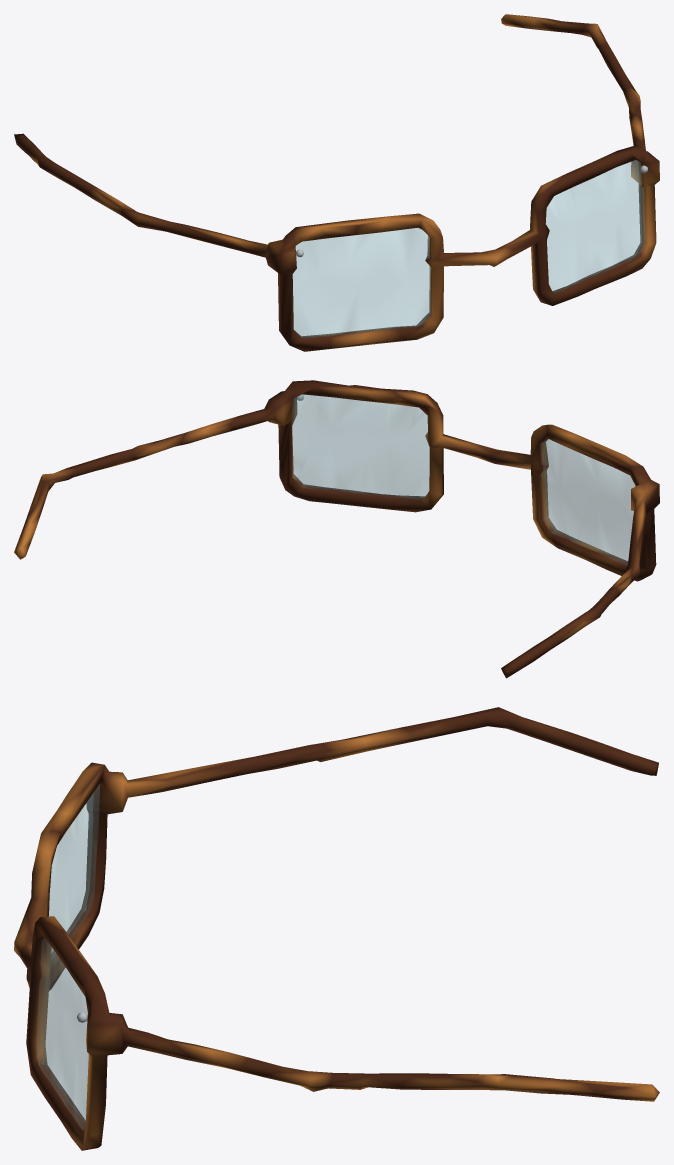
The model's file is kinhcan.glb.
3 renders of one model, top to bottom at view 1: azimuth 30°, elevation 25°; view 2: azimuth 150°, elevation 25°; view 3: azimuth 270°, elevation 25°, orthographic. The views are drawn at different scales.
Visible parts, largest first — view 1: Trong_Can, Gong_Can; view 2: Gong_Can, Trong_Can; view 3: Gong_Can, Trong_Can.
Boxes of the visible parts, left/top/right/bottom form: Trong_Can: left=292, top=160, right=645, bottom=338; Gong_Can: left=14, top=14, right=659, bottom=351; Gong_Can: left=14, top=380, right=659, bottom=678; Trong_Can: left=292, top=394, right=635, bottom=564; Gong_Can: left=14, top=707, right=659, bottom=1150; Trong_Can: left=36, top=784, right=99, bottom=1129.
Size of the model in its own units: 0.2584 by 0.0537 by 0.1891.
